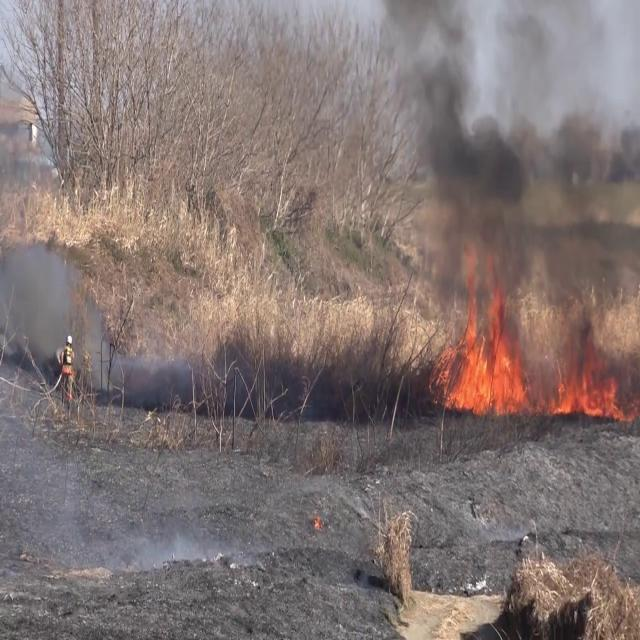Fire: (438, 256, 530, 418), (548, 362, 628, 424)
Smoke: (387, 0, 640, 364), (0, 221, 99, 381)
